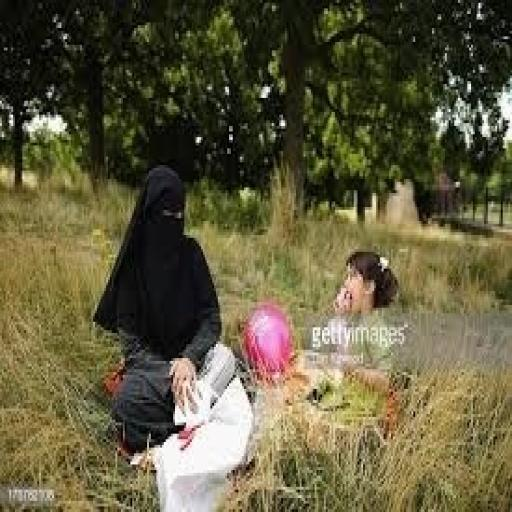sitting: (90, 157, 410, 467), (92, 160, 236, 462)
